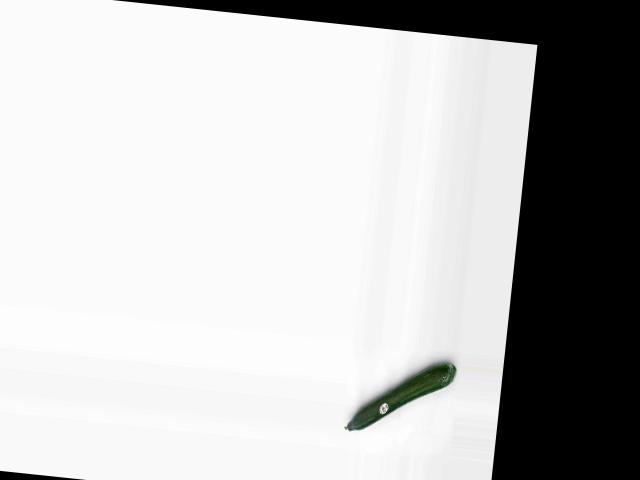cucumber: (343, 353, 455, 441)
